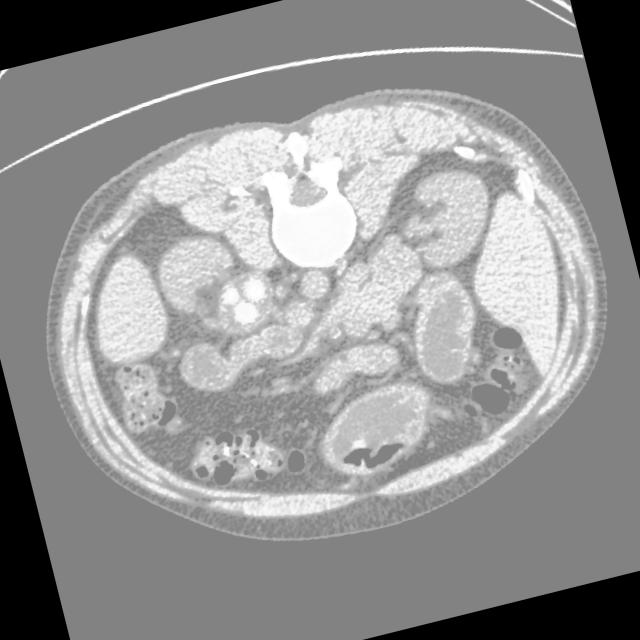STONE: (84, 249, 589, 567)
